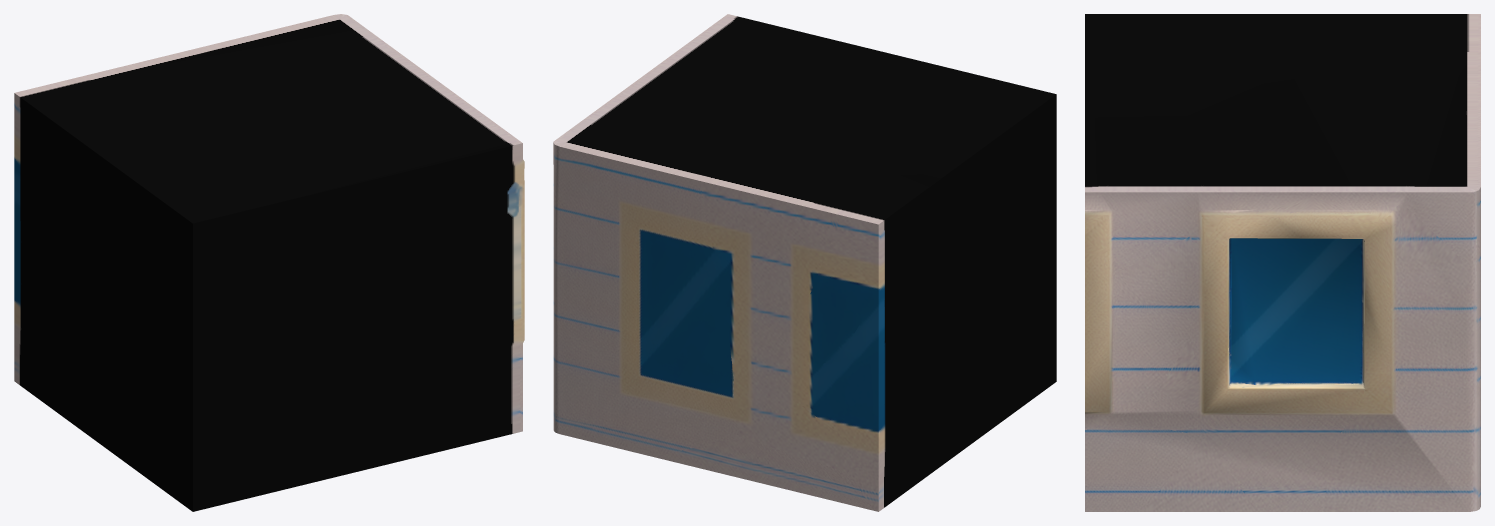
The model's file is 8-upper-walls-back-right.fbx.
3 renders of one model, left to right at view 1: azimuth 30°, elevation 25°; view 2: azimuth 150°, elevation 25°; view 3: azimuth 270°, elevation 25°, orthographic. The views are drawn at different scales.
Visible parts, largest first — view 1: upper-walls-back-right; view 2: upper-walls-back-right; view 3: upper-walls-back-right.
Part boxes in pixels (x1=…): upper-walls-back-right: x1=14, y1=14, x2=524, y2=511; upper-walls-back-right: x1=553, y1=14, x2=1056, y2=511; upper-walls-back-right: x1=1085, y1=14, x2=1480, y2=511.
Bounding box in the file's own units: 7536 × 6252 × 7018.
Materials: 1 (1 with a texture image).
